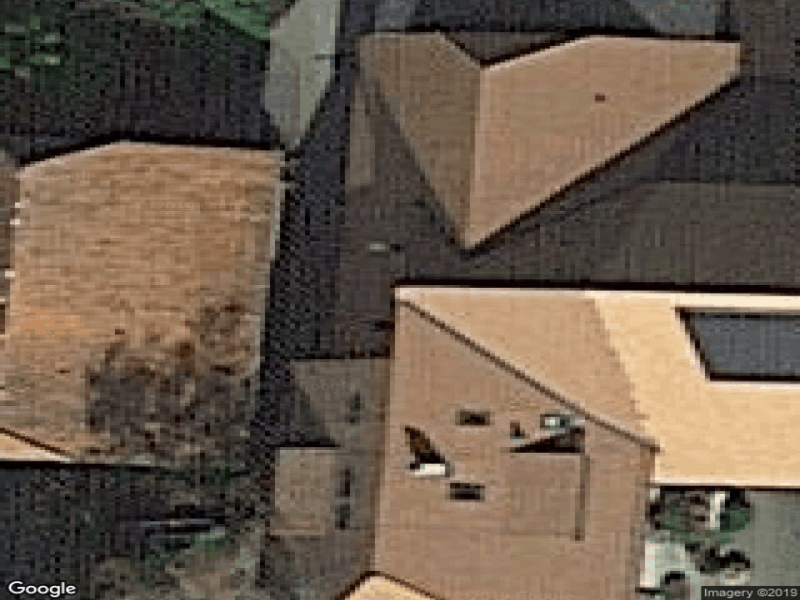pv: (678, 298, 800, 385)
